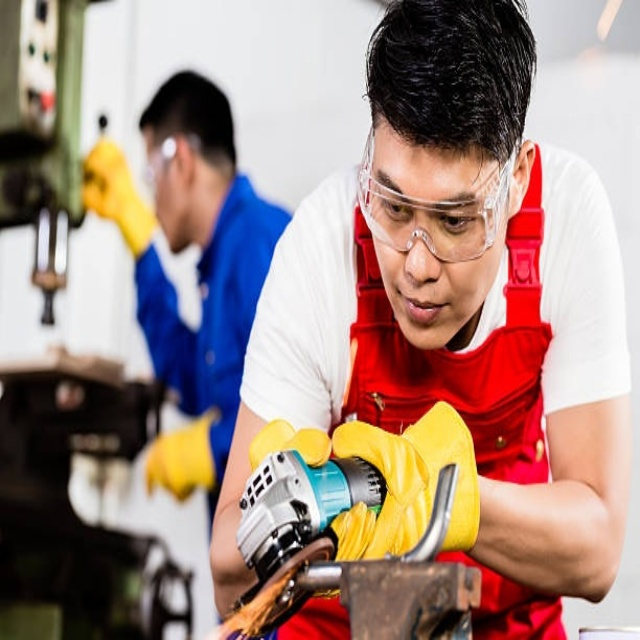Gafas: (357, 125, 517, 263), (142, 133, 201, 195)
Guantes: (331, 401, 482, 560), (82, 136, 158, 258), (144, 408, 222, 503), (249, 418, 332, 473)
Sin_mascara: (391, 281, 456, 345)
